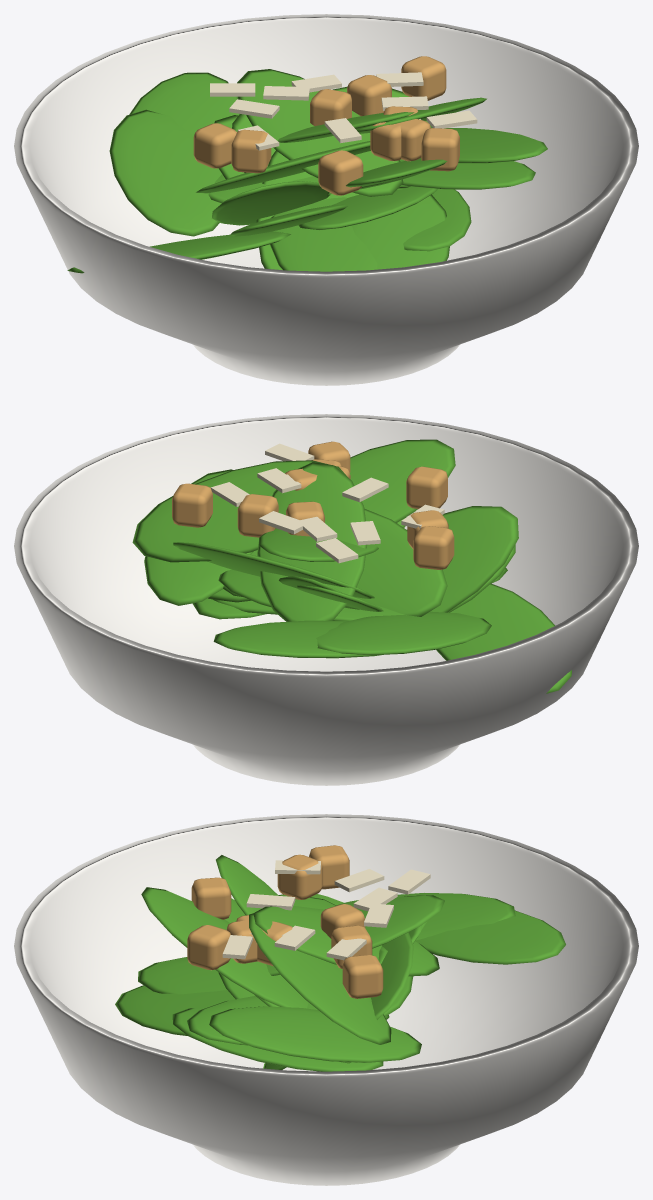
The model's file is salada-caesar.glb.
The picture shows the model from 3 angles, top to bottom: view 1: azimuth 30°, elevation 25°; view 2: azimuth 150°, elevation 25°; view 3: azimuth 270°, elevation 25°; orthographic projection.
Parts seen in each view (by area): view 1: salada-caesar; view 2: salada-caesar; view 3: salada-caesar.
Part boxes in pixels (x1,y1,x2,y2): salada-caesar: (14,14,638,385); salada-caesar: (14,414,638,785); salada-caesar: (14,814,638,1185).
Bounding box in the file's own units: 0.22 × 0.0883 × 0.22.
